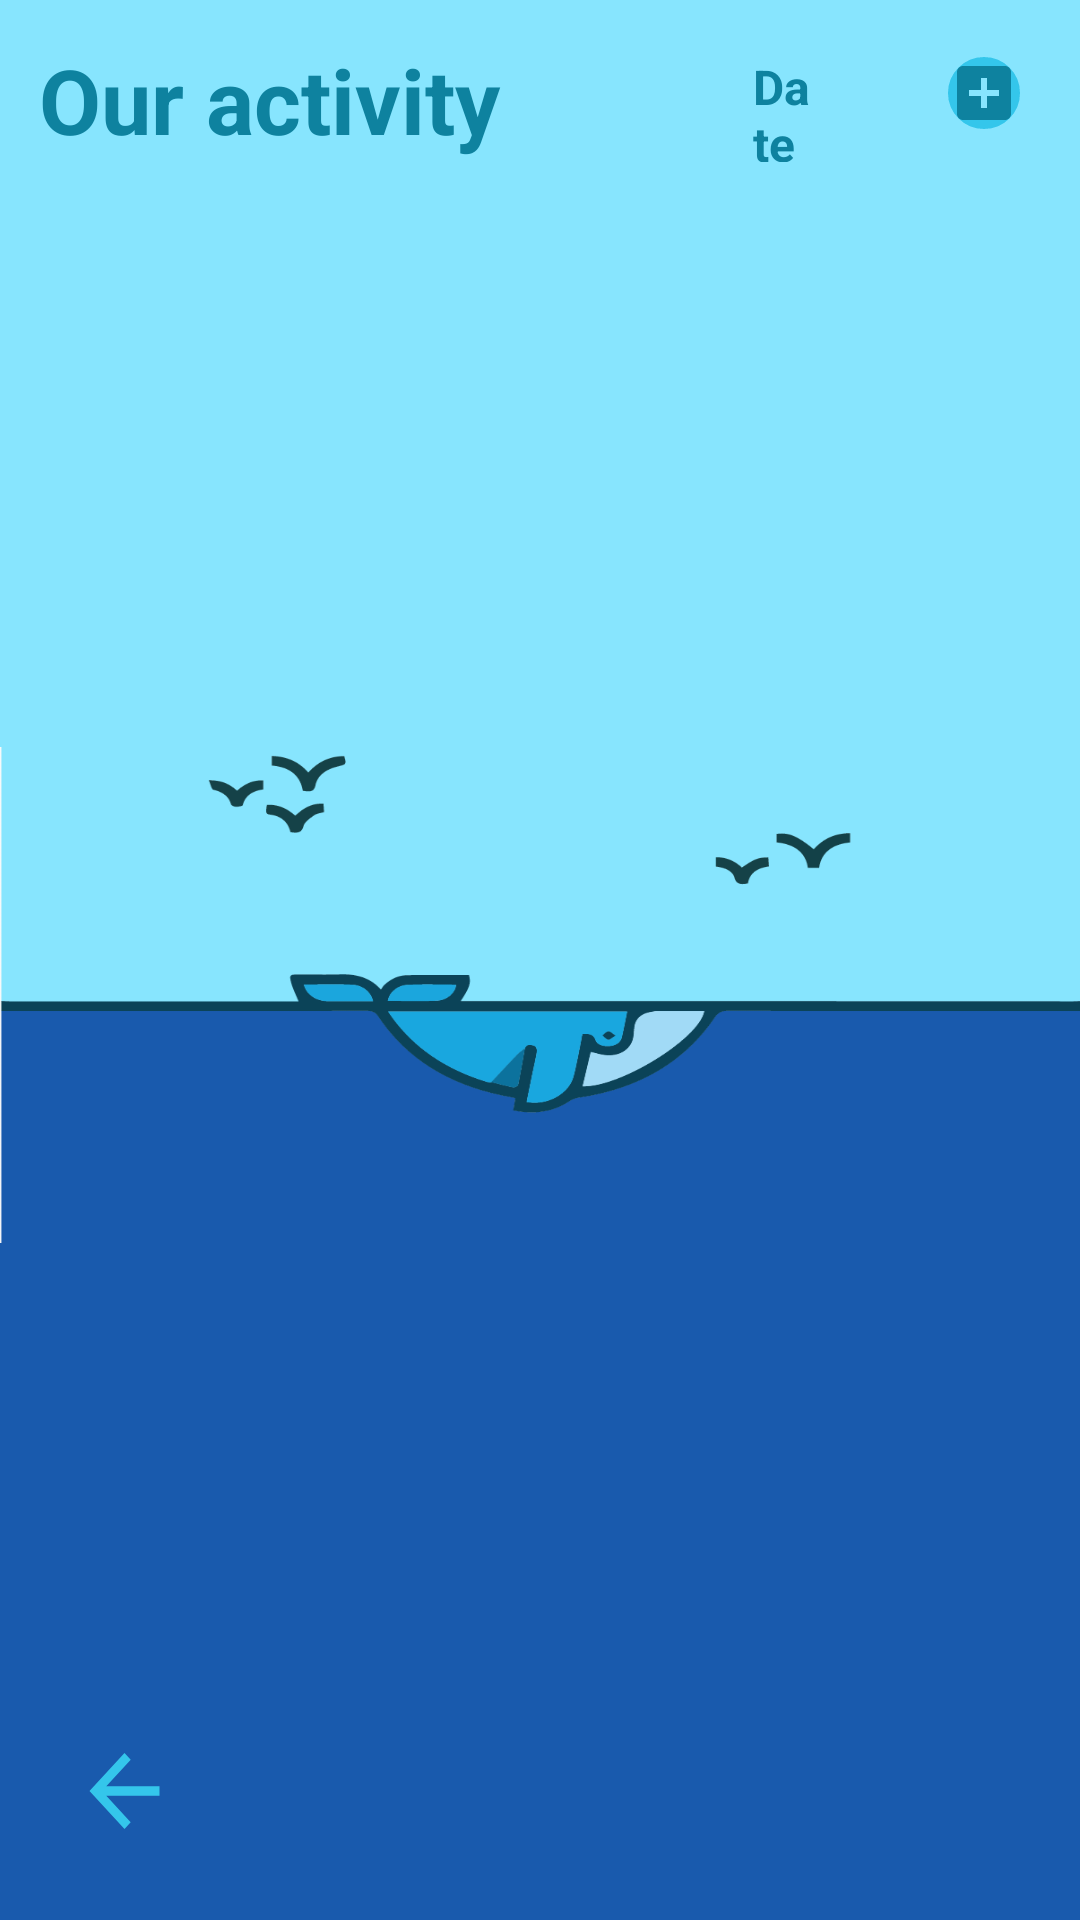

Screen size 1080×1920. Icon name, then its box in pixels as (x1, y1, x2, y2):
add event: (948, 57, 1020, 129)
arrow back: (90, 1753, 160, 1829)
